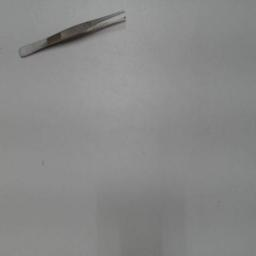Gillies Toothed Dissector: (12, 5, 128, 65)
